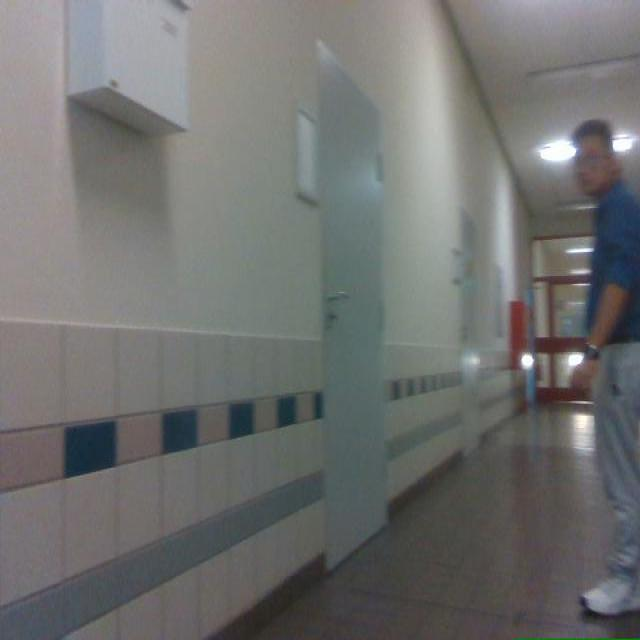humans: (571, 120, 639, 615)
